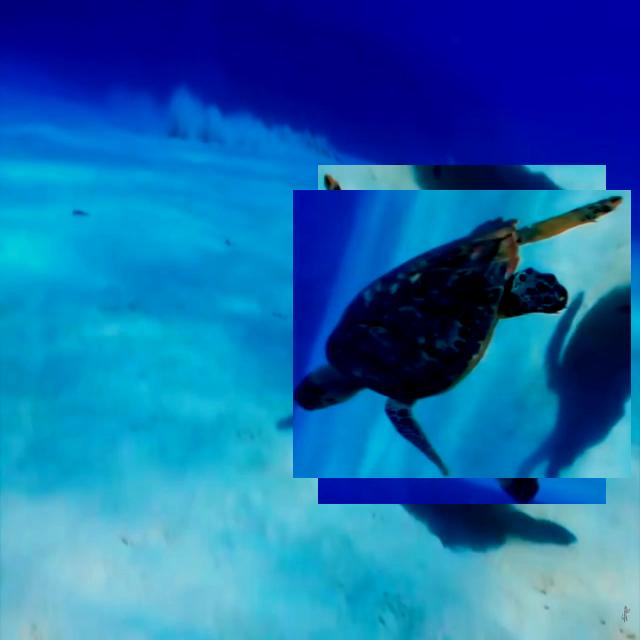Sea turtle: (305, 178, 619, 491)
